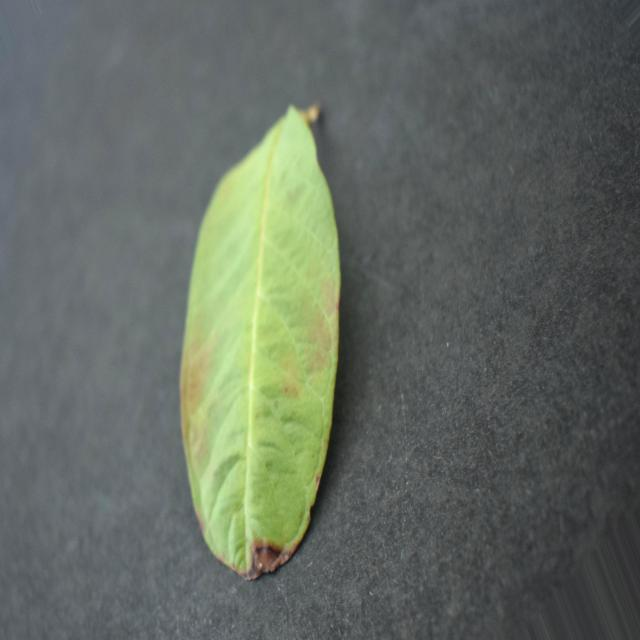Dot: (180, 107, 340, 579)
